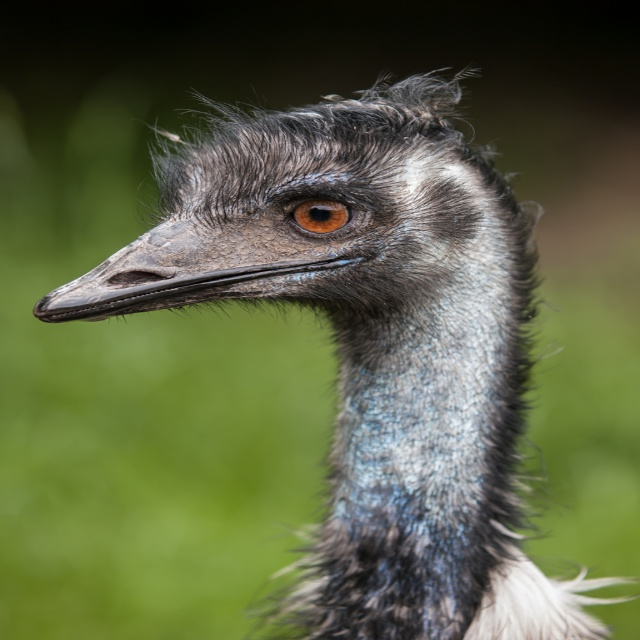Ostrich: (30, 75, 623, 638)
